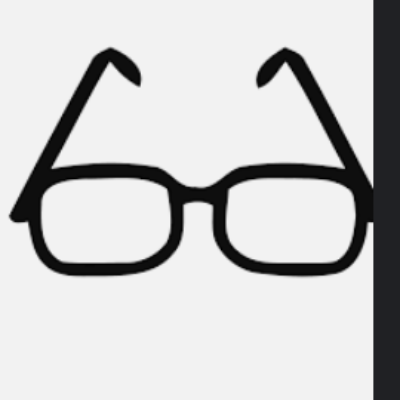glasses: (10, 44, 374, 282)
